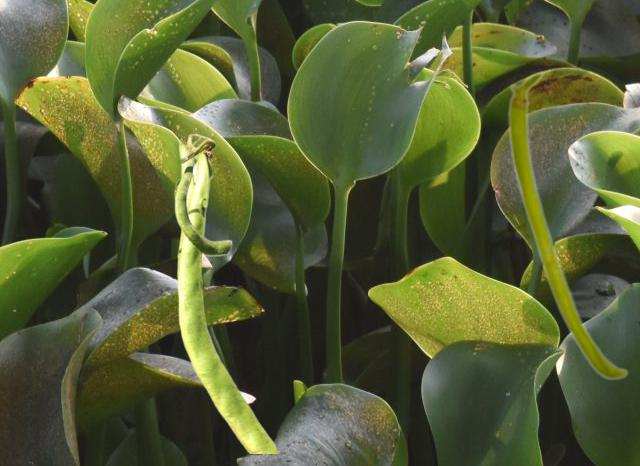french_bean: (507, 70, 628, 380), (173, 133, 278, 452)
